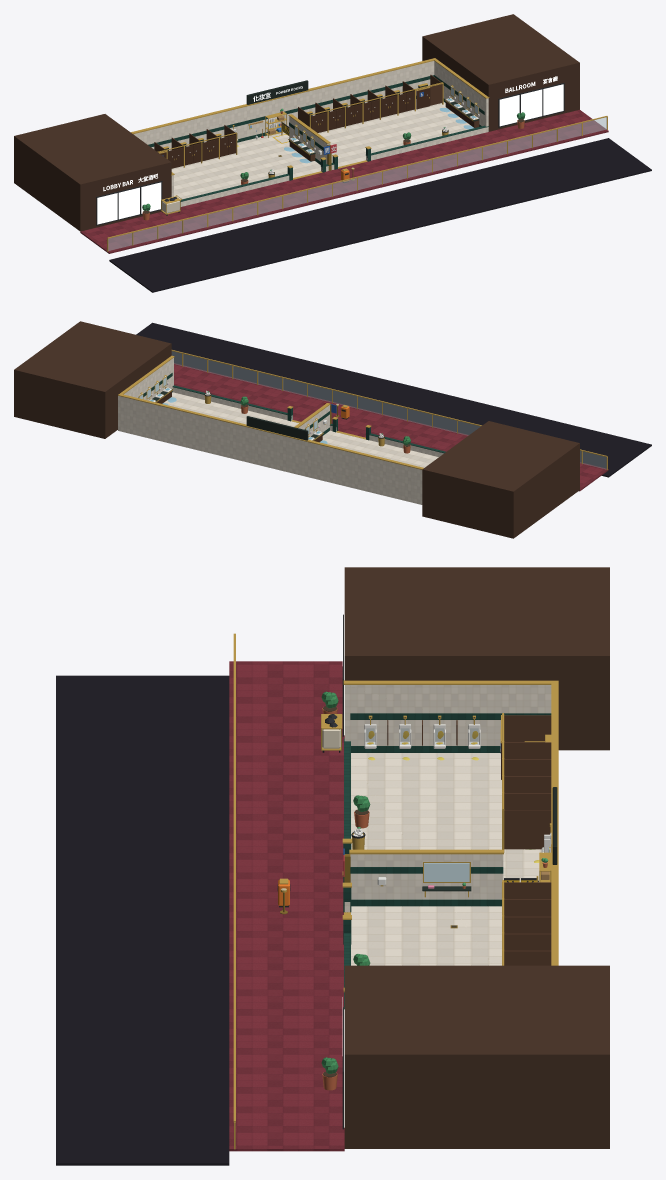
Rendered from level_hotel.glb.
The picture shows the model from 3 angles, top to bottom: view 1: azimuth 30°, elevation 25°; view 2: azimuth 150°, elevation 25°; view 3: azimuth 270°, elevation 25°; orthographic projection. The views are drawn at different scales.
Visible parts, largest first — view 1: street, neighbours, walls, floor, stall_partitions, decor, signage, bank_dressing; view 2: neighbours, street, walls, floor, signage, decor; view 3: street, neighbours, floor, walls, stall_partitions, decor.
Part boxes in pixels (left/top/right/bottom): street: left=80, top=109, right=651, bottom=292; neighbours: left=14, top=14, right=579, bottom=231; walls: left=131, top=58, right=489, bottom=206; floor: left=171, top=99, right=473, bottom=199; stall_partitions: left=154, top=74, right=443, bottom=167; decor: left=142, top=112, right=525, bottom=220; signage: left=246, top=80, right=336, bottom=170; bank_dressing: left=288, top=96, right=479, bottom=161; neighbours: left=14, top=321, right=579, bottom=538; street: left=136, top=322, right=651, bottom=491; walls: left=118, top=355, right=445, bottom=503; floor: left=118, top=392, right=438, bottom=504; signage: left=246, top=402, right=336, bottom=440; decor: left=204, top=393, right=410, bottom=453; street: left=56, top=633, right=344, bottom=1165; neighbours: left=342, top=567, right=609, bottom=1148; floor: left=351, top=753, right=541, bottom=965; walls: left=342, top=680, right=558, bottom=1009; stall_partitions: left=501, top=713, right=551, bottom=965; decor: left=277, top=691, right=551, bottom=1090.
Bounding box in the file's own units: 40.06 × 4.25 × 19.2.
60 materials, 4 textured.
